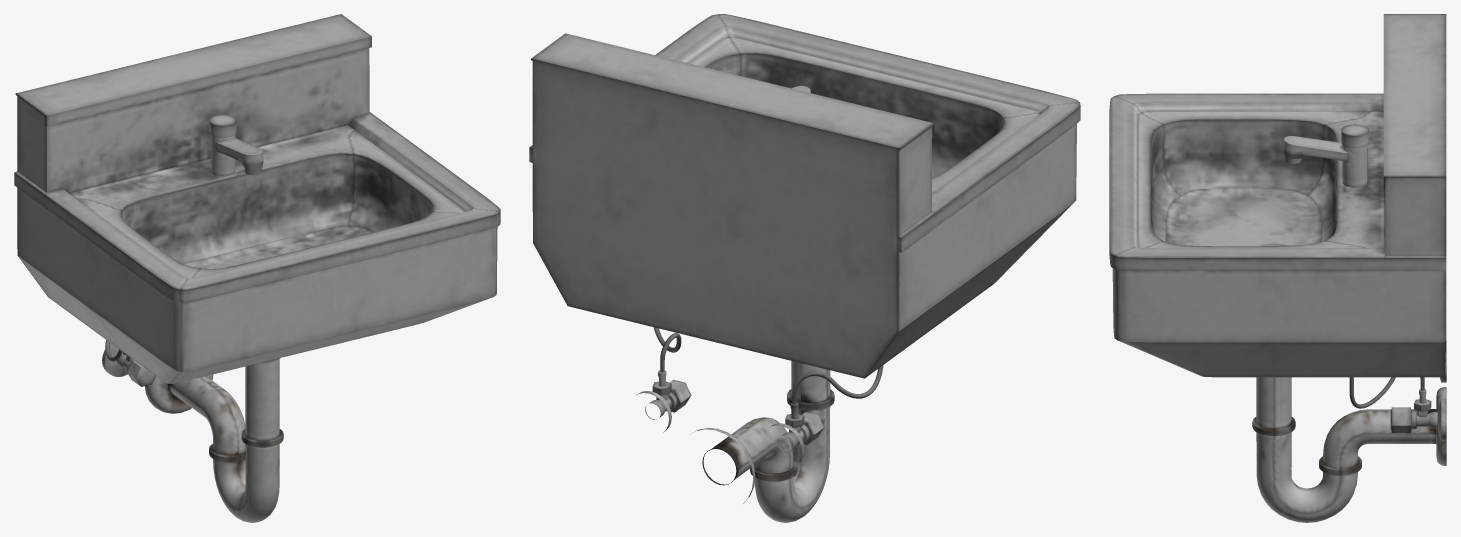
3 views of the same model, side by side, from view 1: azimuth 30°, elevation 25°; view 2: azimuth 150°, elevation 25°; view 3: azimuth 270°, elevation 25° (orthographic). The views are drawn at different scales.
Visible parts, largest first — view 1: Sink, Faucet; view 2: Sink; view 3: Sink, Faucet.
Part boxes in pixels (bbox=[...]): Sink: bbox=[14, 14, 500, 522]; Faucet: bbox=[209, 114, 263, 176]; Sink: bbox=[529, 14, 1080, 522]; Sink: bbox=[1109, 14, 1446, 522]; Faucet: bbox=[1283, 124, 1368, 187].
Size of the model in its own units: 0.4493 by 0.5432 by 0.39.
Materials: 1 (1 with a texture image).
